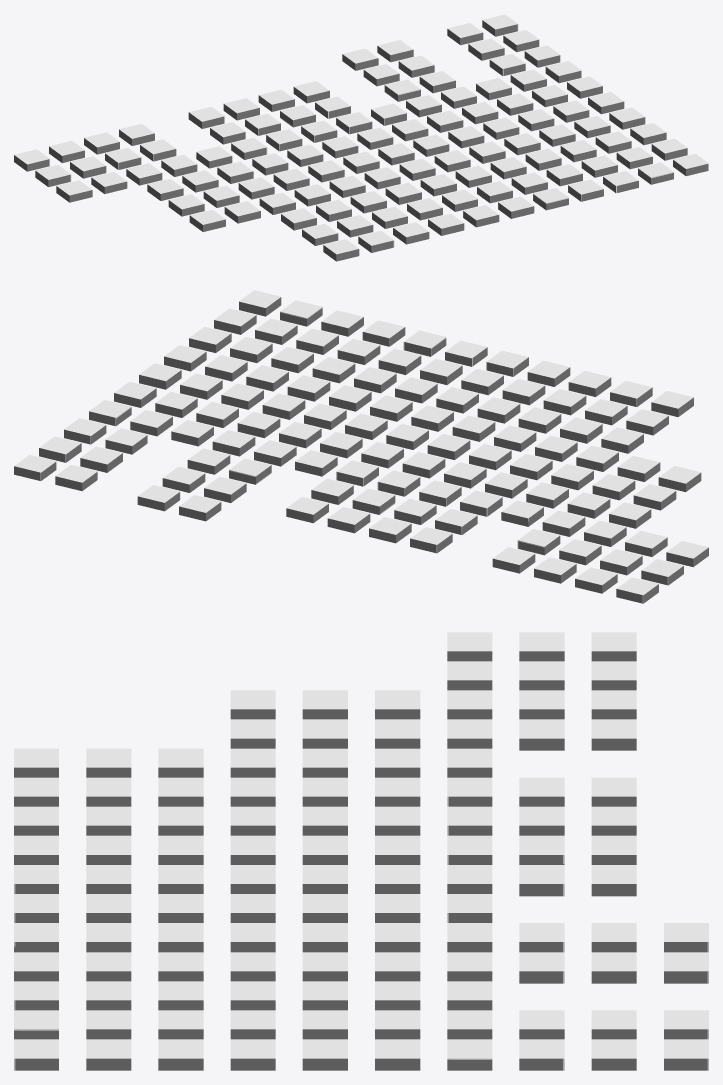
Rendered from Lights.fbx.
3 renders of one model, top to bottom at view 1: azimuth 30°, elevation 25°; view 2: azimuth 150°, elevation 25°; view 3: azimuth 270°, elevation 25°, orthographic. The views are drawn at different scales.
Visible parts, largest first — view 1: Cube; view 2: Cube; view 3: Cube.
Boxes of the visible parts, box(x1,y1,x2,y2) form: Cube: box(14, 14, 708, 261); Cube: box(14, 290, 708, 603); Cube: box(14, 632, 708, 1070).
Bounding box in the file's own units: 711 × 9.55 × 490.
